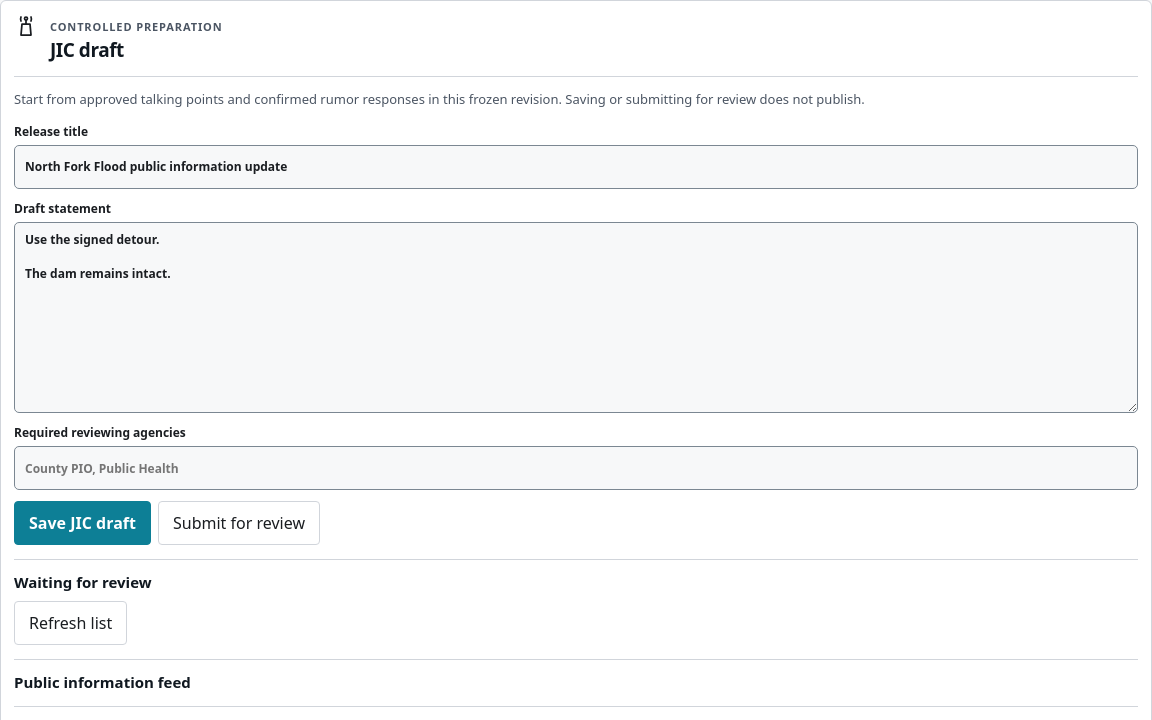
Scenario: incident SITREP composition and JIC preparation › keeps operator text after a rejected draft save
This screenshot has width=1152, height=720.
Replace the text in the text box labelled "Draft statement" with "Operator-edited public statement" at x=576, y=317, box x1=14 y1=222 x2=1138 y2=413
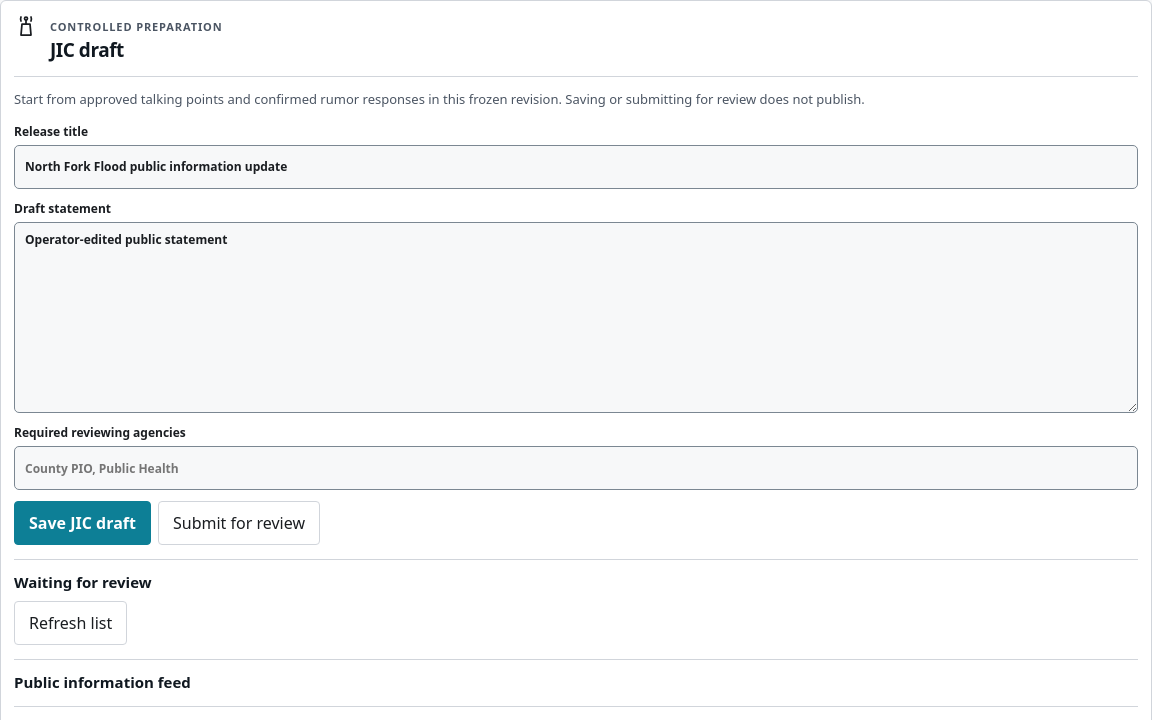
Click the button "Save JIC draft" at x=82, y=523, box x1=14 y1=501 x2=151 y2=545
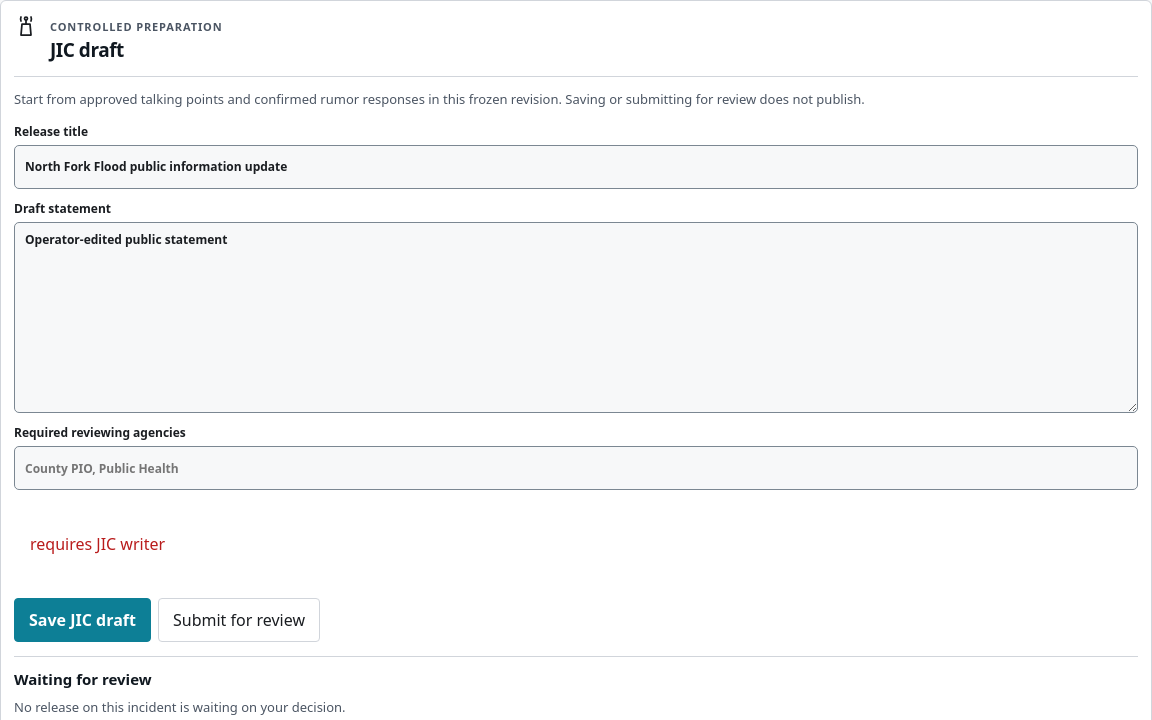
Expected: the text "requires JIC writer" is shown, x1=30 y1=533 x2=165 y2=555
